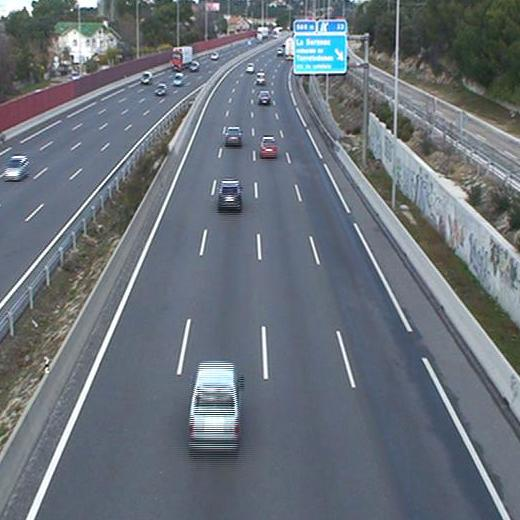car: (188, 360, 242, 452), (215, 177, 247, 215), (223, 125, 242, 147), (260, 135, 277, 159), (257, 88, 273, 106), (255, 71, 268, 87), (245, 61, 255, 74)
truck: (284, 36, 294, 61)
